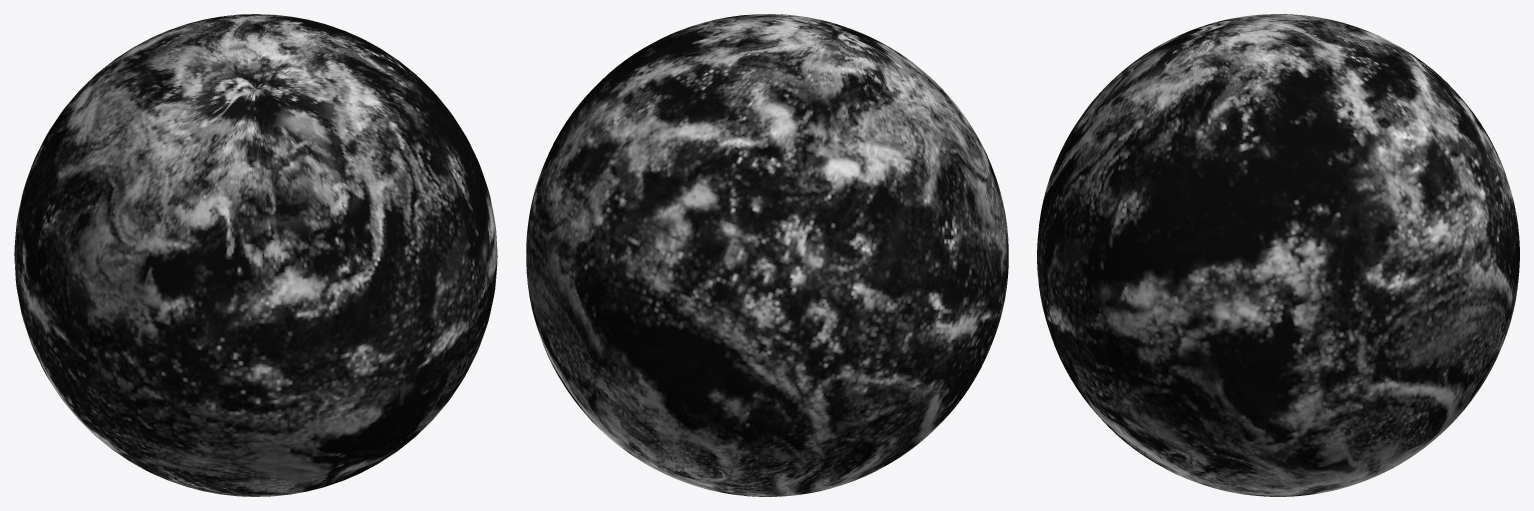
File: Clouds.fbx
The picture shows the model from 3 angles, left to right: view 1: azimuth 30°, elevation 25°; view 2: azimuth 150°, elevation 25°; view 3: azimuth 270°, elevation 25°; orthographic projection.
Visible parts, largest first — view 1: Clouds; view 2: Clouds; view 3: Clouds.
Part boxes in pixels (x1=…): Clouds: x1=14, y1=14, x2=497, y2=496; Clouds: x1=526, y1=14, x2=1008, y2=496; Clouds: x1=1037, y1=14, x2=1519, y2=496.
Size of the model in its own units: 658 by 658 by 658.
